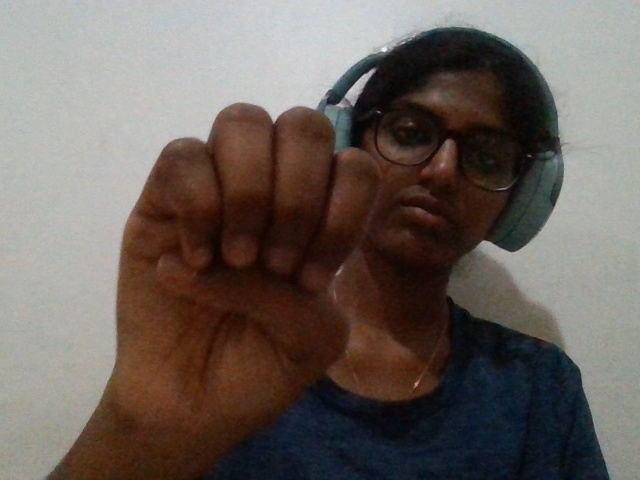E: (80, 68, 379, 480)
